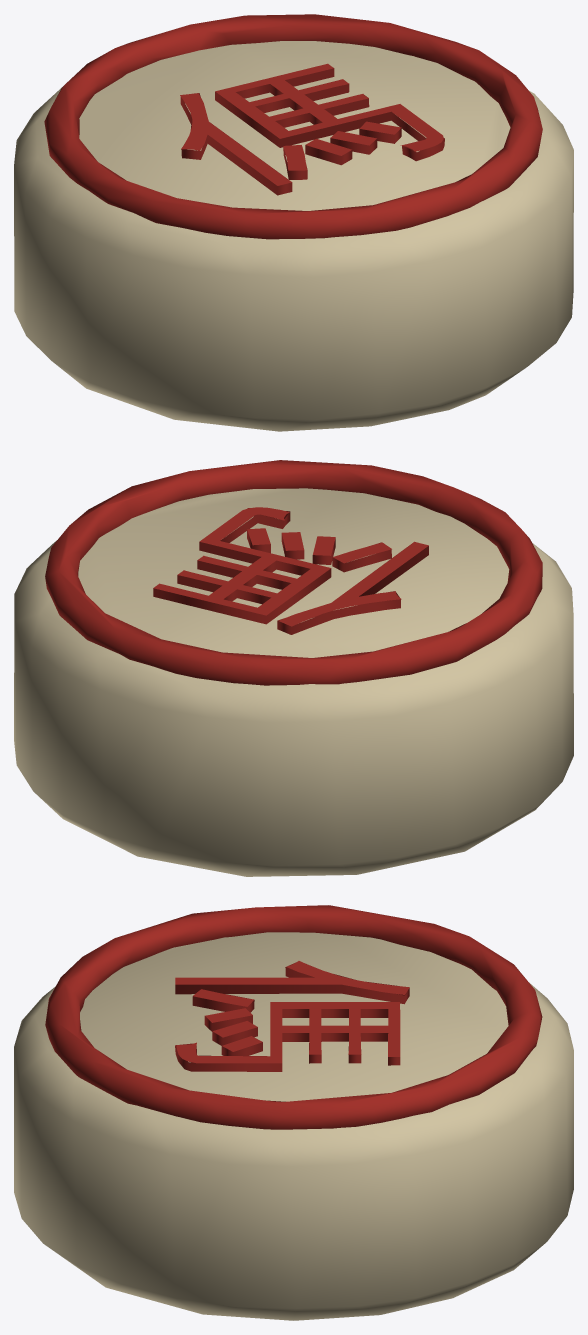
The model's file is quan_do_ma.glb.
3 views of the same model, one above another, from view 1: azimuth 30°, elevation 25°; view 2: azimuth 150°, elevation 25°; view 3: azimuth 270°, elevation 25° (orthographic).
Visible parts, largest first — view 1: quan_do_ma; view 2: quan_do_ma; view 3: quan_do_ma.
Boxes of the visible parts, x1,y1,x2,y2 form: quan_do_ma: (14,14,573,431); quan_do_ma: (14,460,573,876); quan_do_ma: (14,905,573,1320).
Bounding box in the file's own units: 0.0367 × 0.0153 × 0.0366.
